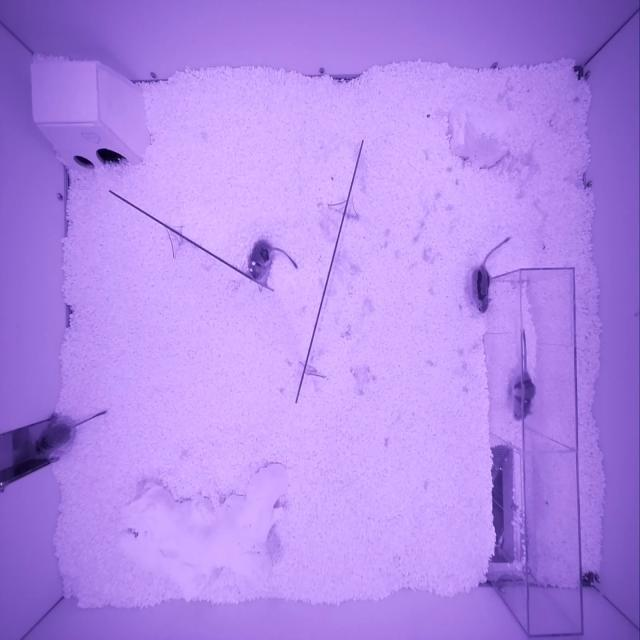pup_fluffy: (35, 418, 75, 459)
pup_h_stripe: (511, 373, 535, 421)
pup_spotted: (247, 239, 274, 280)
pup_v_stripe: (471, 265, 492, 313)
